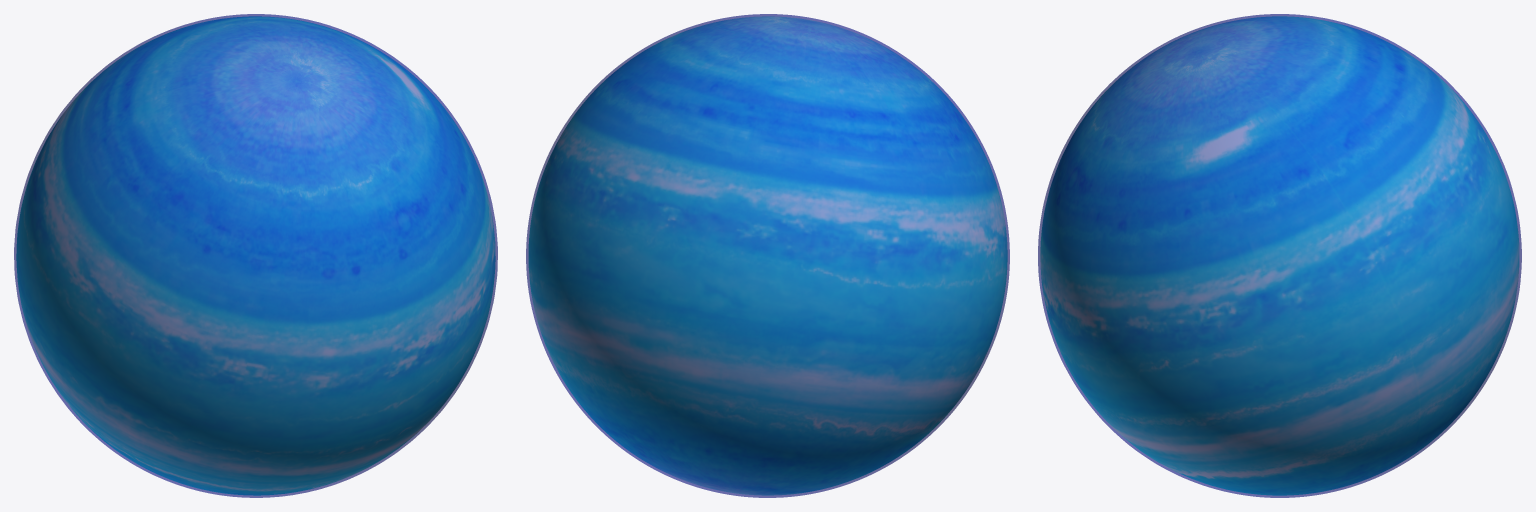
Rendered from 8-blue-planet.glb.
3 views of the same model, side by side, from view 1: azimuth 30°, elevation 25°; view 2: azimuth 150°, elevation 25°; view 3: azimuth 270°, elevation 25° (orthographic).
Parts seen in each view (by area): view 1: Sphere.001_1, Sphere_0; view 2: Sphere.001_1, Sphere_0; view 3: Sphere.001_1, Sphere_0.
Part boxes in pixels (box(x1,y1,x2,y2)): Sphere.001_1: box(14, 14, 497, 497); Sphere_0: box(16, 16, 495, 495); Sphere.001_1: box(526, 14, 1009, 497); Sphere_0: box(528, 16, 1007, 495); Sphere.001_1: box(1038, 14, 1521, 497); Sphere_0: box(1040, 16, 1519, 495).
Bounding box in the file's own units: 2 × 2 × 2.
2 materials, 2 textured.
